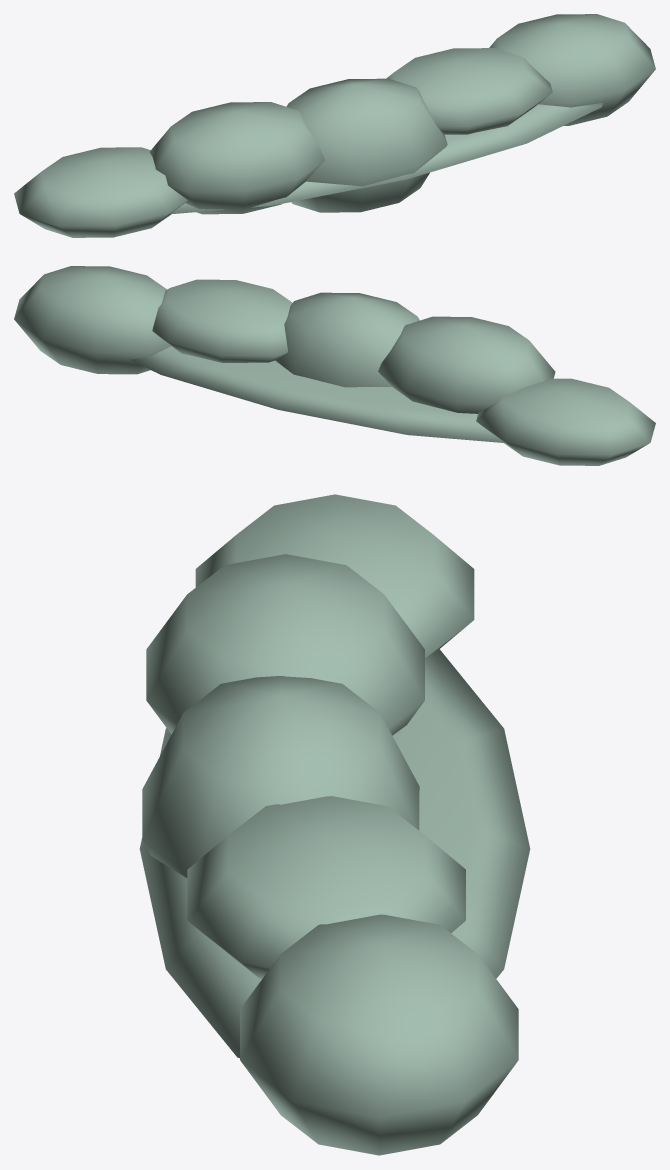
The model's file is distant_coast_cove.glb.
3 views of the same model, one above another, from view 1: azimuth 30°, elevation 25°; view 2: azimuth 150°, elevation 25°; view 3: azimuth 270°, elevation 25° (orthographic). The views are drawn at different scales.
Size of the model in its own units: 44 by 8 by 12.
